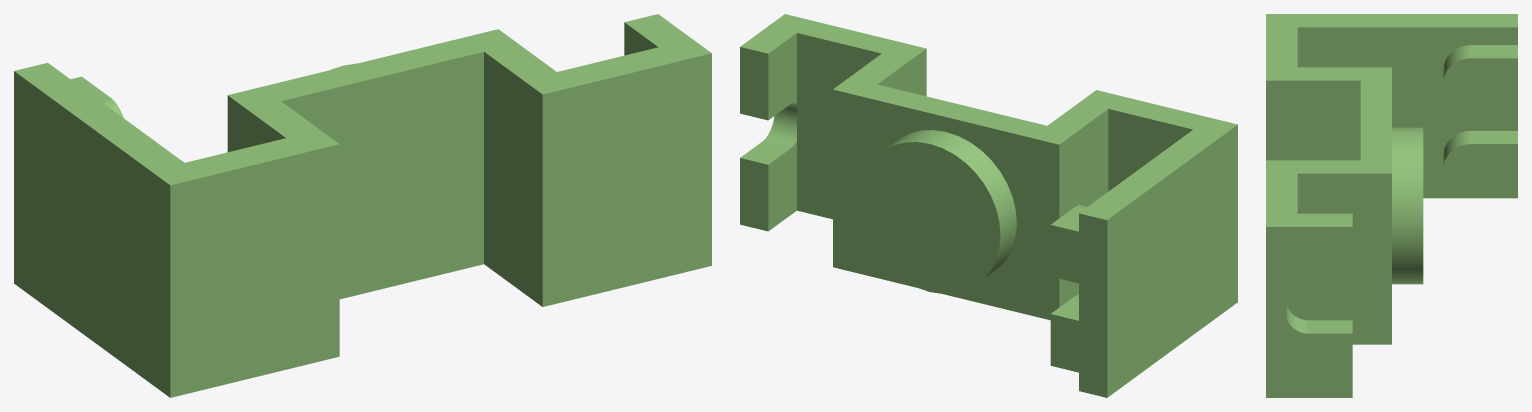
The picture shows the model from 3 angles, left to right: view 1: azimuth 30°, elevation 25°; view 2: azimuth 150°, elevation 25°; view 3: azimuth 270°, elevation 25°; orthographic projection. The views are drawn at different scales.
Parts seen in each view (by area): view 1: s9_16; view 2: s9_16; view 3: s9_16.
Boxes of the visible parts, x1,y1,x2,y2 form: s9_16: (14,14,711,397); s9_16: (740,14,1237,397); s9_16: (1266,14,1517,397).
Size of the model in its own units: 0.2032 by 0.0762 by 0.1016.
